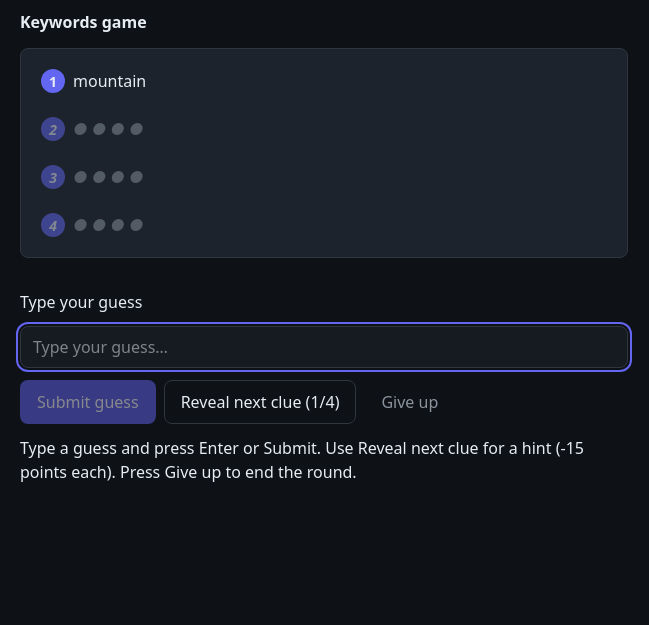
Scenario: KeywordsGame — give up › ends the round with score 0 and records given_up status
Click the button "Give up" at (410, 402), box [364,380,455,424]
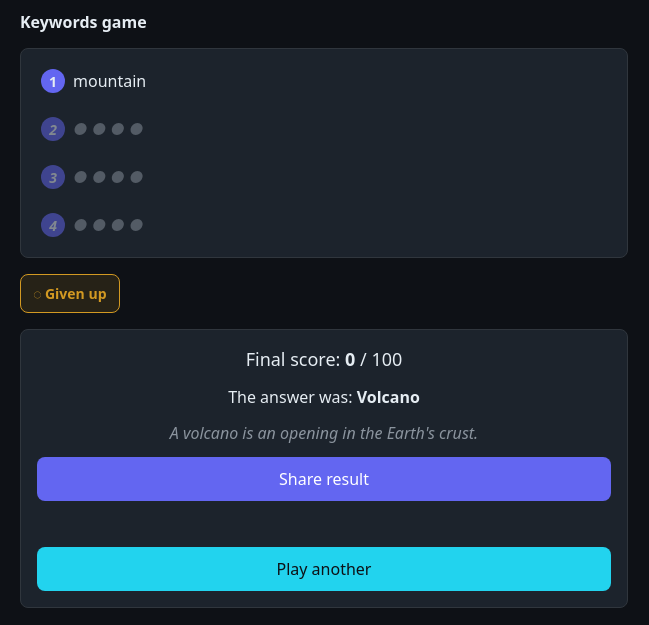
Expected: the text "Volcano" is shown, [357,386,420,408]
Expected: the text "0" is shown, [345,347,355,371]
